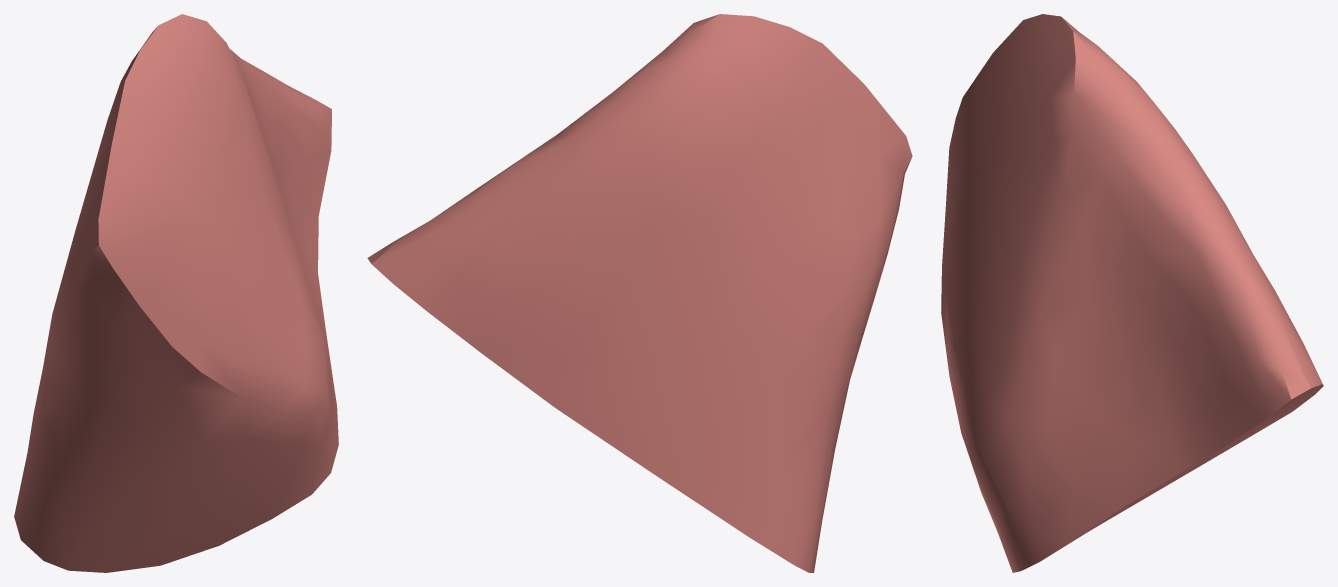
The model's file is fma38728-n_mm1811.glb.
The picture shows the model from 3 angles, left to right: view 1: azimuth 30°, elevation 25°; view 2: azimuth 150°, elevation 25°; view 3: azimuth 270°, elevation 25°; orthographic projection. The views are drawn at different scales.
Visible parts, largest first — view 1: FMA38728-N_MM1811; view 2: FMA38728-N_MM1811; view 3: FMA38728-N_MM1811.
Part boxes in pixels (x1,y1,x2,y2): FMA38728-N_MM1811: [14, 14, 338, 572]; FMA38728-N_MM1811: [367, 14, 912, 572]; FMA38728-N_MM1811: [941, 14, 1323, 572].
Bounding box in the file's own units: 0.0106 × 0.0137 × 0.00864.
